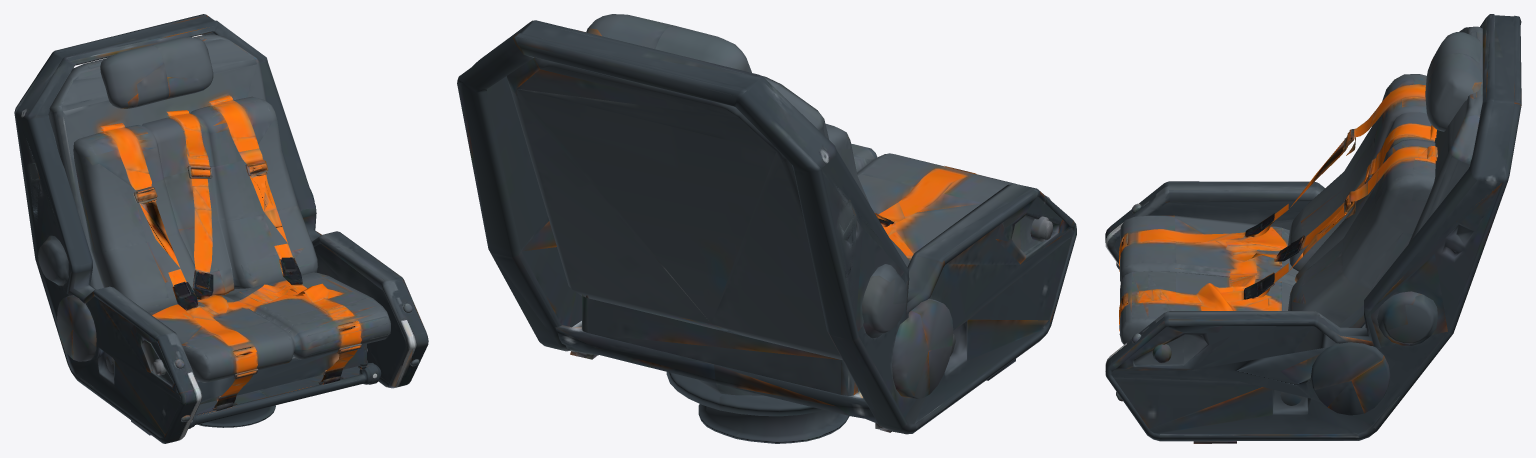
Rendered from p_seat2.glb.
3 views of the same model, side by side, from view 1: azimuth 30°, elevation 25°; view 2: azimuth 150°, elevation 25°; view 3: azimuth 270°, elevation 25° (orthographic). The views are drawn at different scales.
Size of the model in its own units: 0.7934 by 0.9087 by 0.9507.
Materials: 1 (1 with a texture image).
